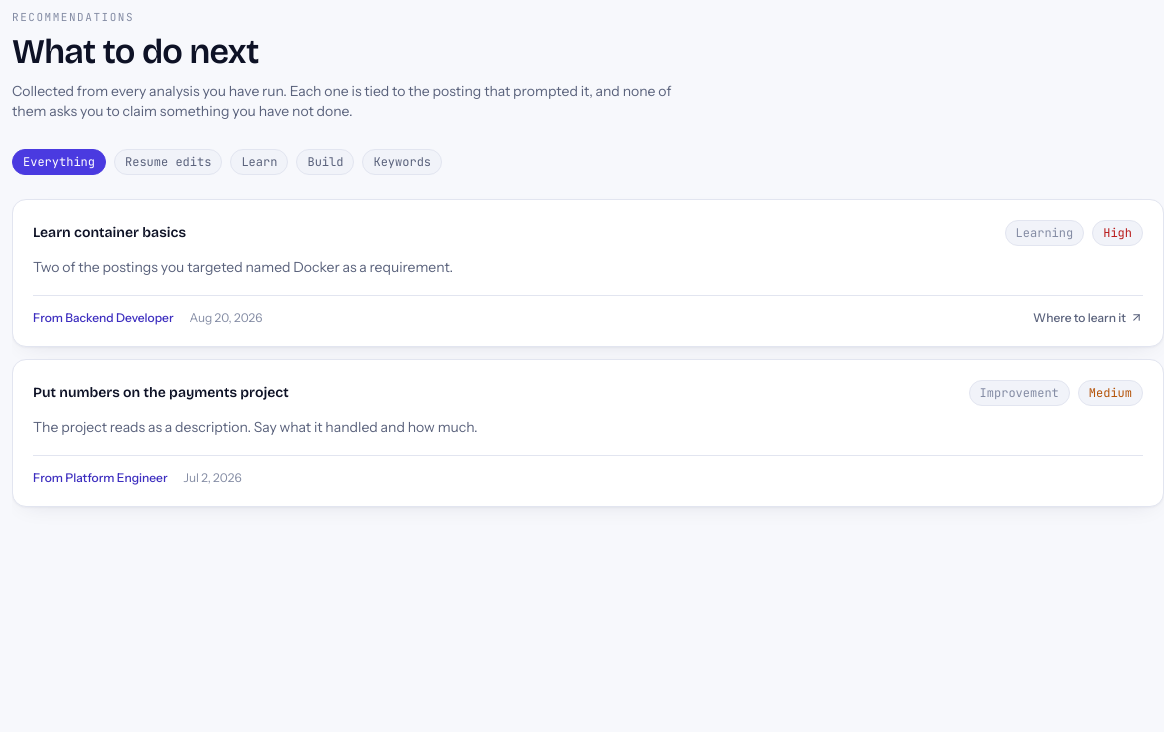
Test case: Recommendations › asks the server for one kind instead of filtering what it already fetched
The image size is (1164, 732).
Click the button "Learn".
click(259, 162)  # box [230,149,288,175]
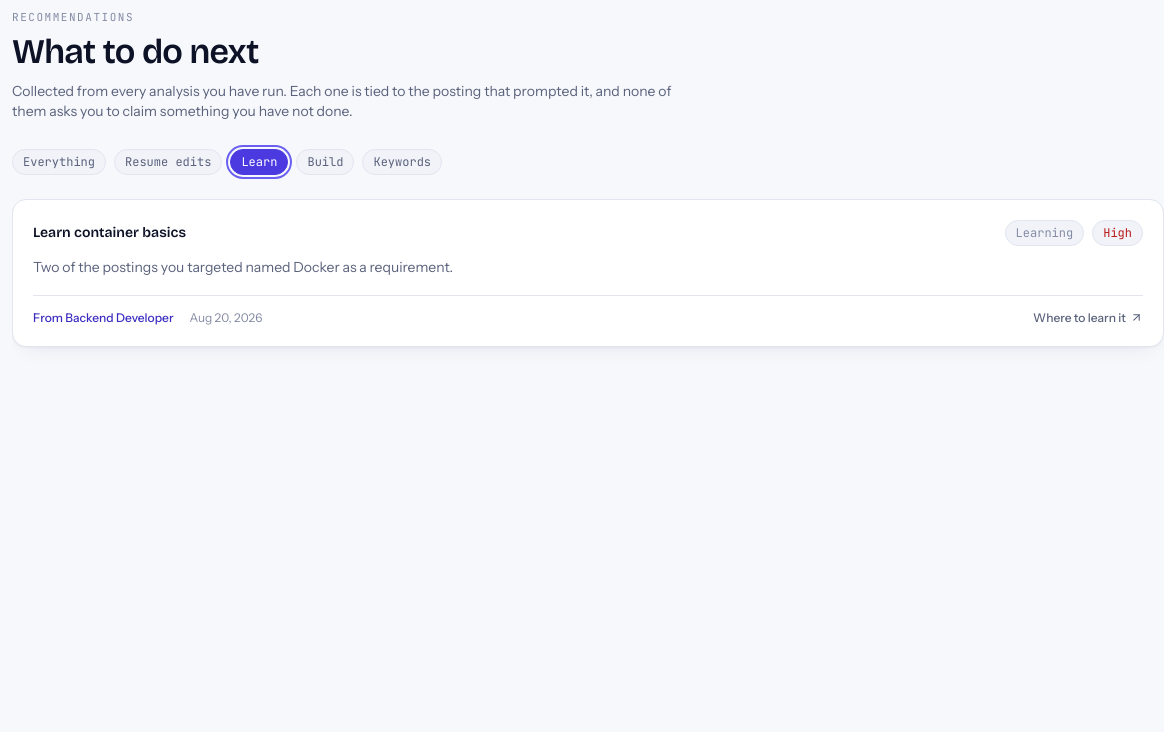
Expected: the heading "Learn container basics" is shown, [33,223,186,243]
Expected: the heading "Put numbers on the payments project" is gone
